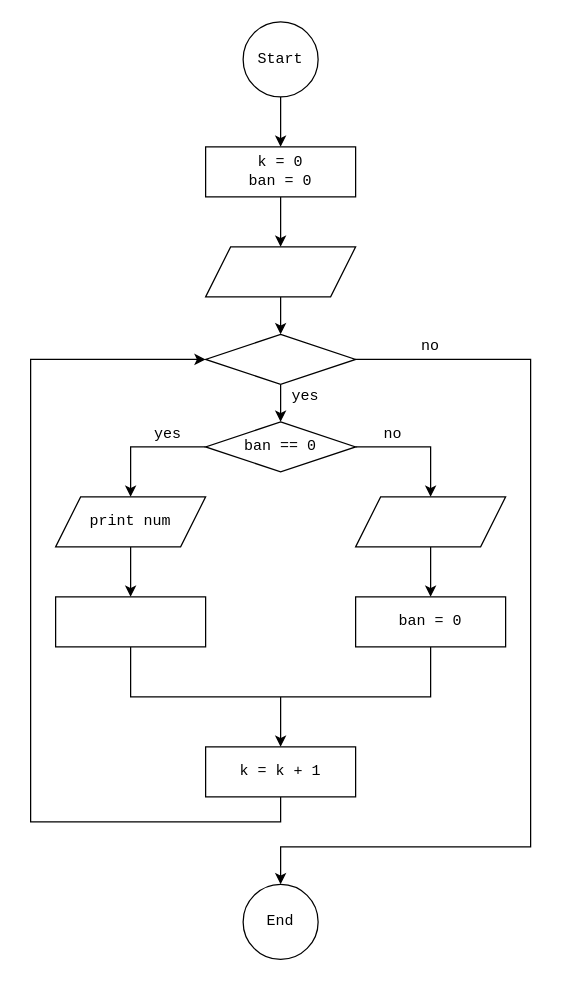
Some shapes in this 563 by 981 pixel diagram are drawn without their labels. The centre of each missing label's shape, as x and y in pixels:
ban = 1: the point at 130,621
k < N: the point at 280,358
print -num: the point at 430,521
read N: the point at 280,271
